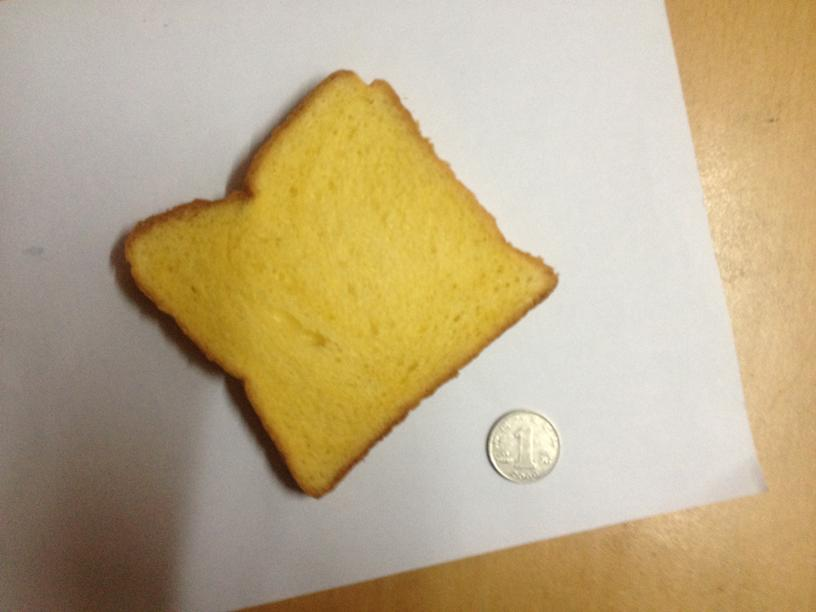bread: (116, 67, 561, 502)
coin: (483, 405, 558, 483)
